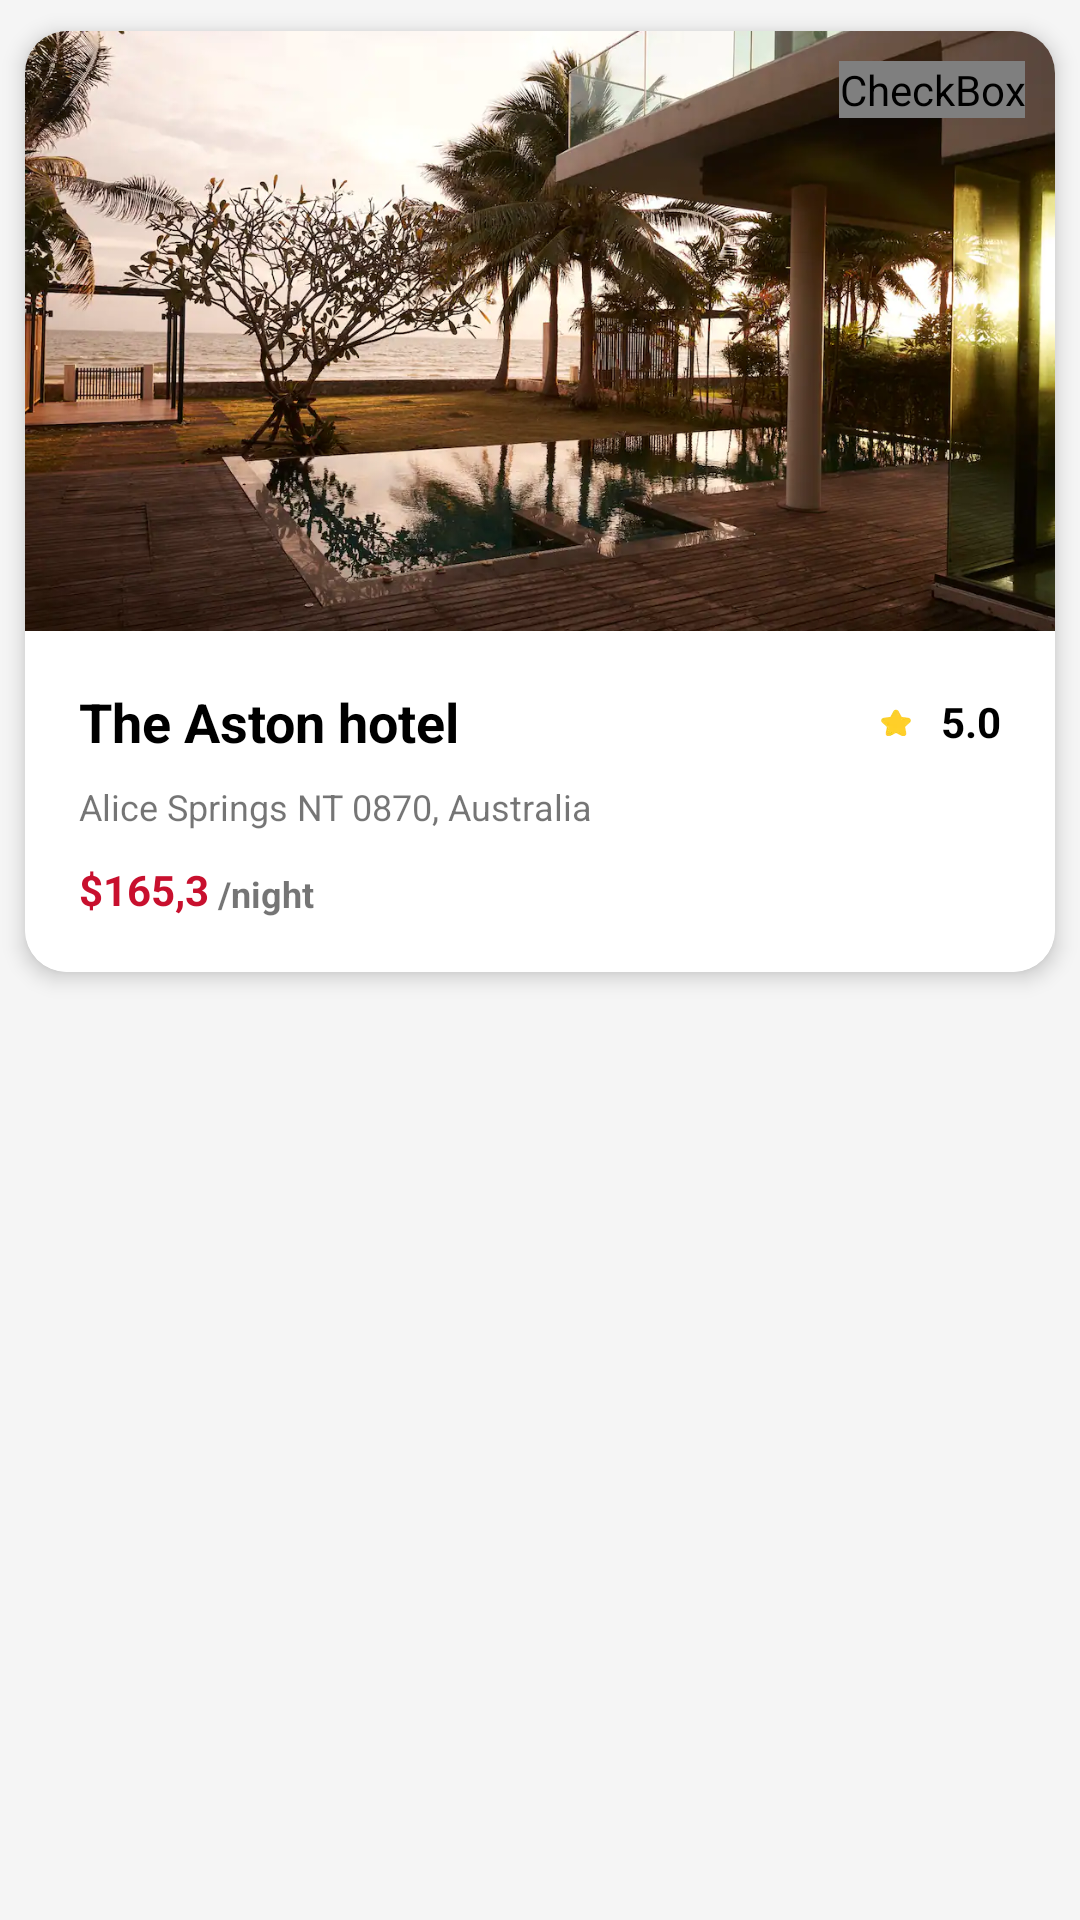

Icon bounding boxes for this 1080*1920 phone screenshot, format [x1=x1, y1=y1, x2=x2, y2=y2]:
start rate: [x1=881, y1=709, x2=911, y2=736]
